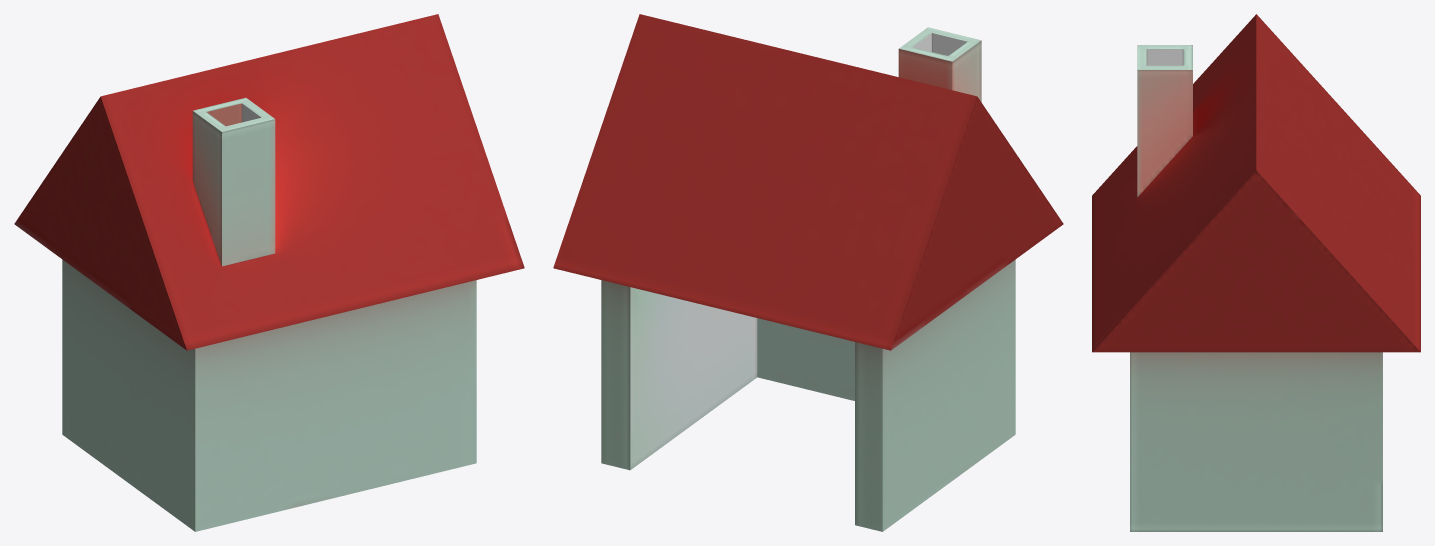
The model's file is world1_house_fbx.fbx.
3 views of the same model, side by side, from view 1: azimuth 30°, elevation 25°; view 2: azimuth 150°, elevation 25°; view 3: azimuth 270°, elevation 25° (orthographic). The views are drawn at different scales.
Parts seen in each view (by area): view 1: world1_house; view 2: world1_house; view 3: world1_house.
Part boxes in pixels (x1=…): world1_house: x1=14, y1=14, x2=524, y2=531; world1_house: x1=553, y1=14, x2=1063, y2=531; world1_house: x1=1092, y1=14, x2=1420, y2=531.
Size of what is drawn, in the model's own units: 42.65 by 47.51 by 37.81.
